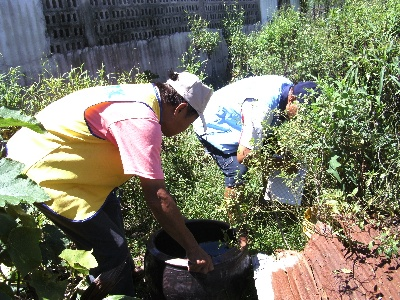bowl: (144, 218, 250, 300)
